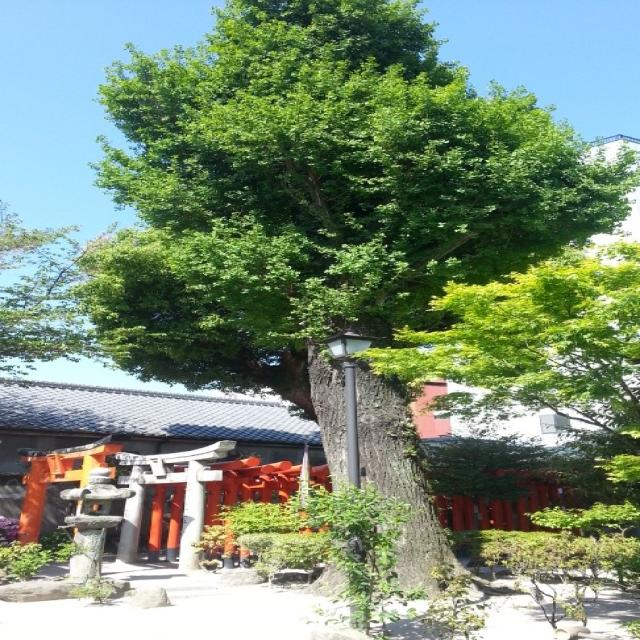ginkgo: (76, 0, 640, 603)
